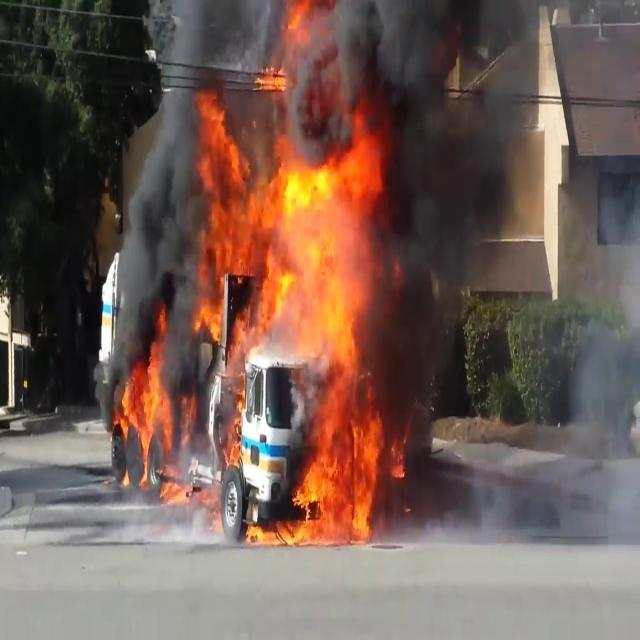Fire: (188, 102, 394, 540), (114, 334, 178, 489), (246, 513, 302, 547)
Smoke: (339, 1, 536, 407), (116, 2, 223, 366)
